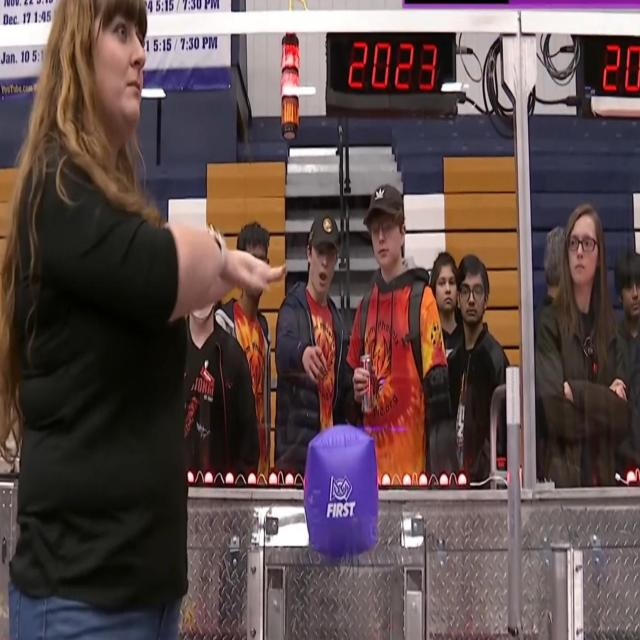frc_cube: (303, 424, 376, 556)
